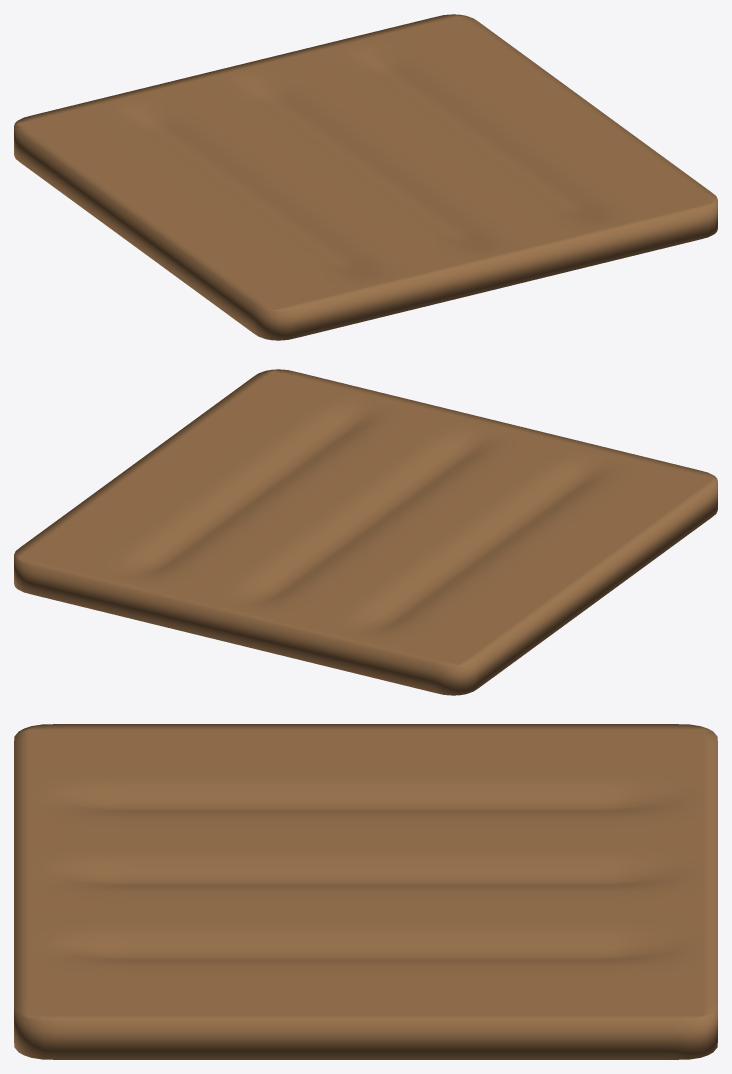
Rendered from soil_empty.fbx.
3 views of the same model, one above another, from view 1: azimuth 30°, elevation 25°; view 2: azimuth 150°, elevation 25°; view 3: azimuth 270°, elevation 25° (orthographic). The views are drawn at different scales.
Visible parts, largest first — view 1: soil_empty; view 2: soil_empty; view 3: soil_empty.
Part boxes in pixels (bbox=[...]): soil_empty: bbox=[14, 14, 717, 340]; soil_empty: bbox=[14, 369, 717, 695]; soil_empty: bbox=[14, 724, 717, 1059].
Bounding box in the file's own units: 1 × 0.06 × 1.
Materials: 1 (1 with a texture image).
